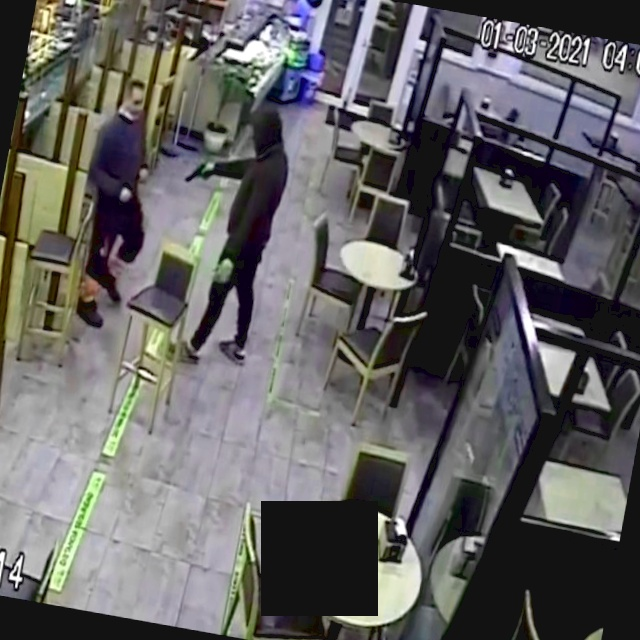gun: (173, 144, 218, 196)
